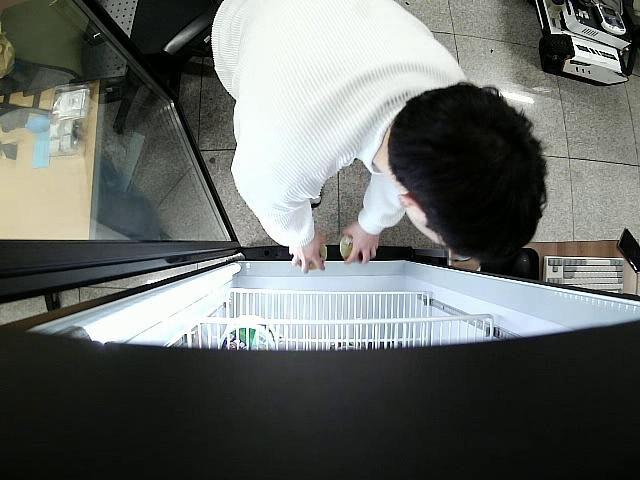04_chapagetti_S: (296, 244, 328, 273), (338, 235, 362, 262)
